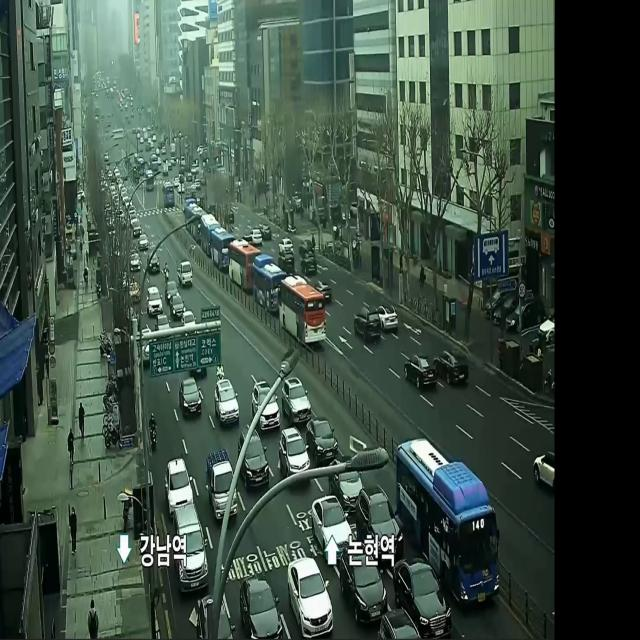bus: (144, 408, 162, 457)
car: (389, 421, 502, 612), (278, 272, 328, 351), (254, 255, 282, 314)
motorcycle: (283, 544, 334, 640), (169, 500, 211, 593), (213, 373, 240, 429)
truck: (202, 442, 240, 535)
